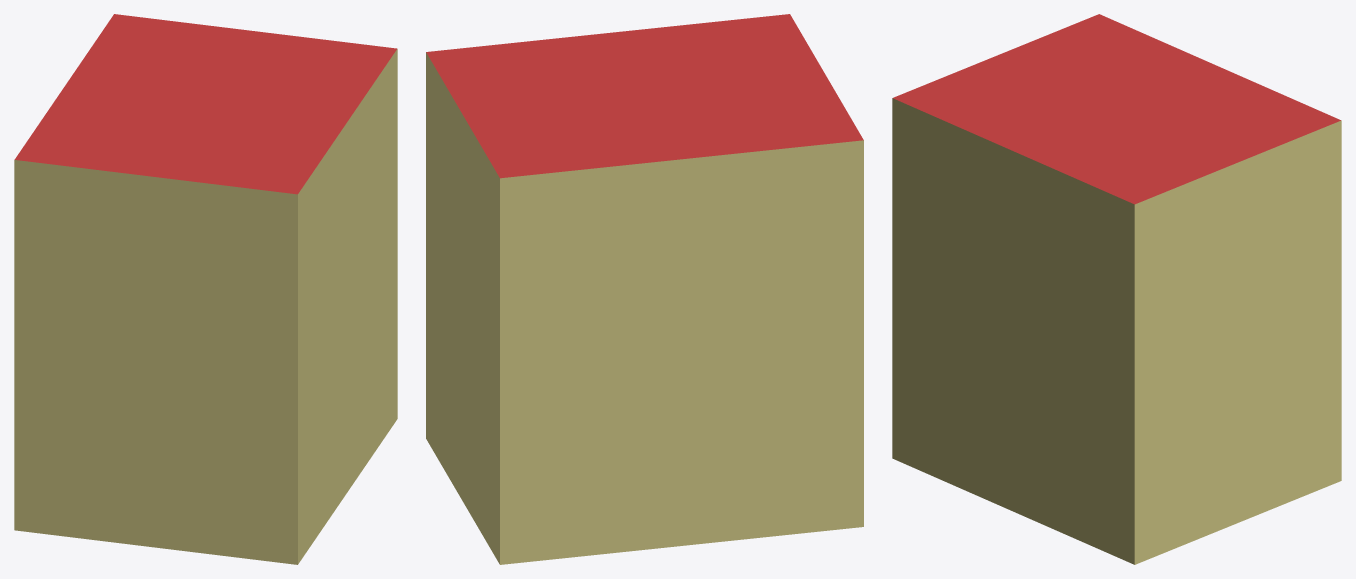
The picture shows the model from 3 angles, left to right: view 1: azimuth 30°, elevation 25°; view 2: azimuth 150°, elevation 25°; view 3: azimuth 270°, elevation 25°; orthographic projection. The views are drawn at different scales.
Size of the model in its own units: 6.98 by 6.95 by 6.16.
